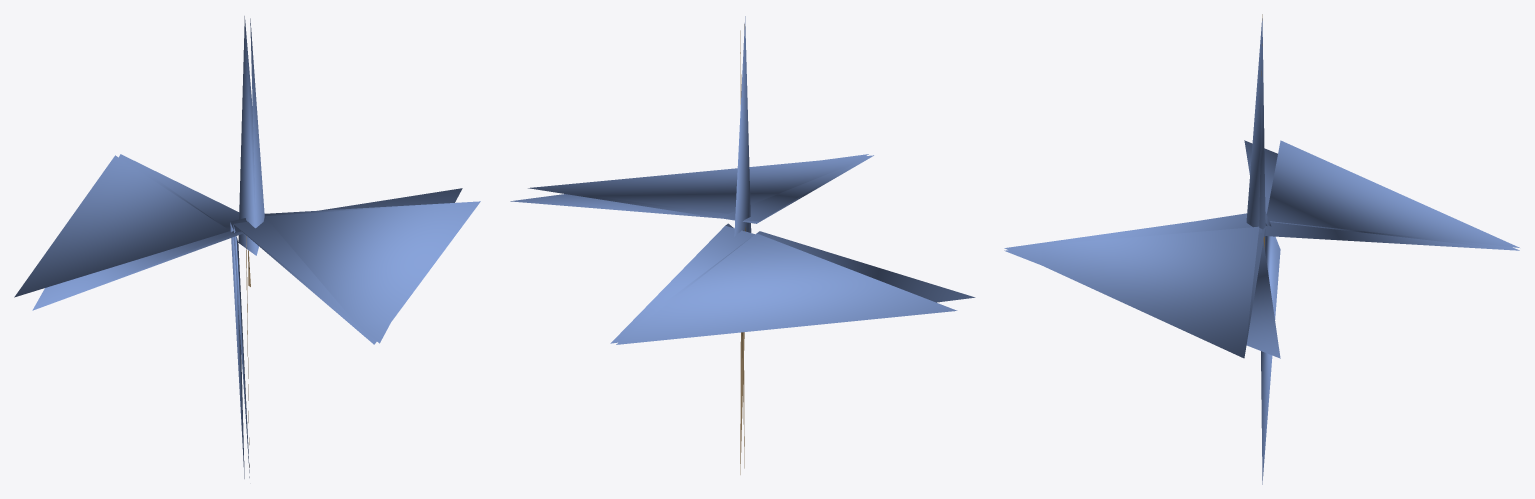
Rendered from equip_weapon_rune_pickaxe.glb.
3 views of the same model, side by side, from view 1: azimuth 30°, elevation 25°; view 2: azimuth 150°, elevation 25°; view 3: azimuth 270°, elevation 25° (orthographic).
Parts seen in each view (by area): view 1: equip_weapon_rune_pickaxe; view 2: equip_weapon_rune_pickaxe; view 3: equip_weapon_rune_pickaxe.
Boxes of the visible parts, <box> form: equip_weapon_rune_pickaxe: <box>14,16,480,478</box>; equip_weapon_rune_pickaxe: <box>510,16,975,474</box>; equip_weapon_rune_pickaxe: <box>1004,14,1519,484</box>.
Size of the model in its own units: 2 by 2 by 2.
